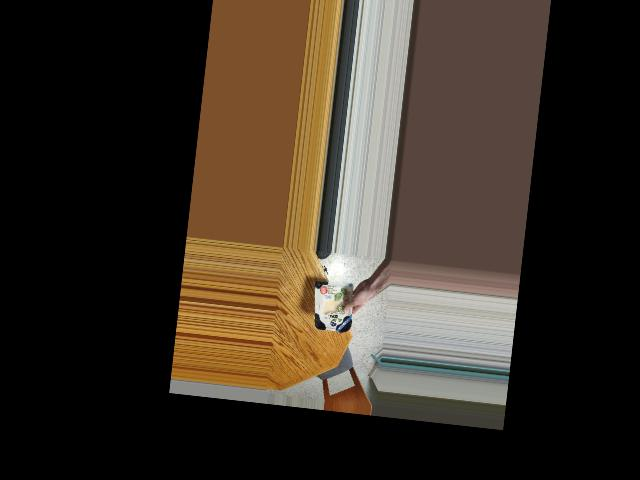cheese: (309, 271, 355, 341)
